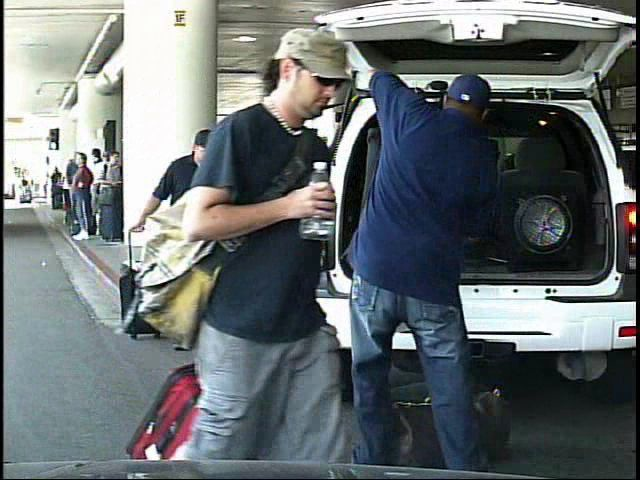person: (172, 19, 361, 480), (333, 34, 528, 478), (128, 124, 248, 354), (13, 174, 24, 205)
